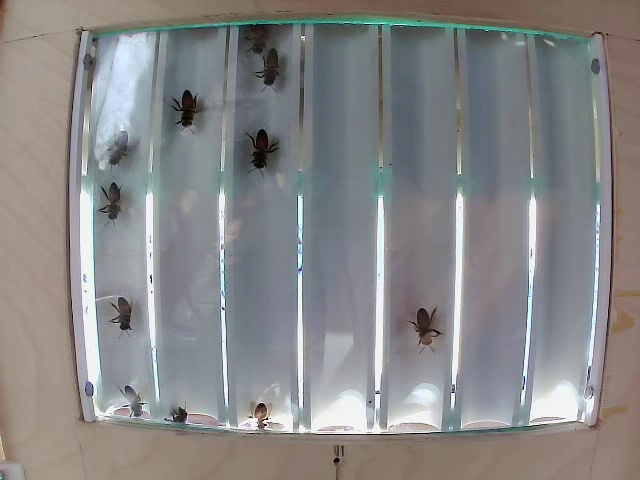bee: (107, 132, 154, 184), (245, 125, 289, 172), (412, 310, 452, 360), (102, 303, 148, 342), (90, 185, 129, 220), (256, 41, 288, 82), (179, 94, 216, 129)
